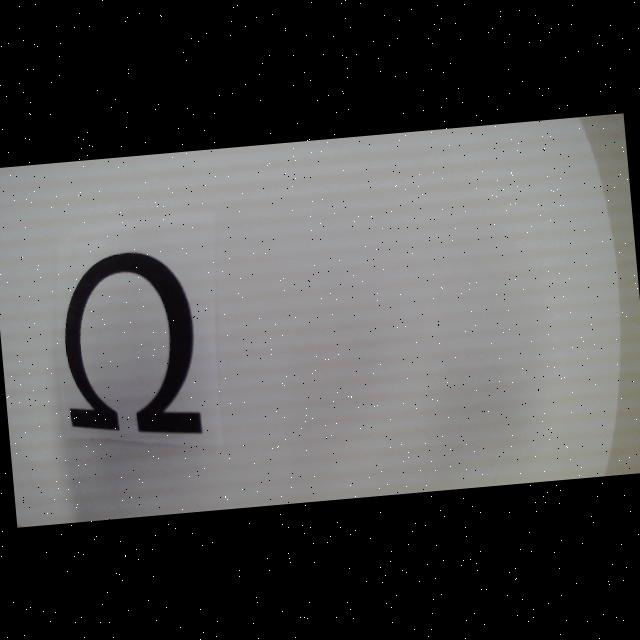OMEGA: (56, 246, 202, 444)
